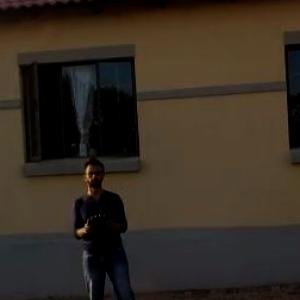follow: (66, 157, 151, 299)
